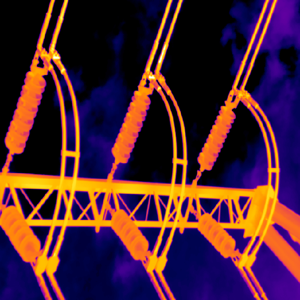insulator: (4, 70, 45, 153), (111, 88, 150, 163), (197, 103, 236, 170), (0, 205, 38, 262), (108, 208, 148, 261), (196, 210, 235, 258)
